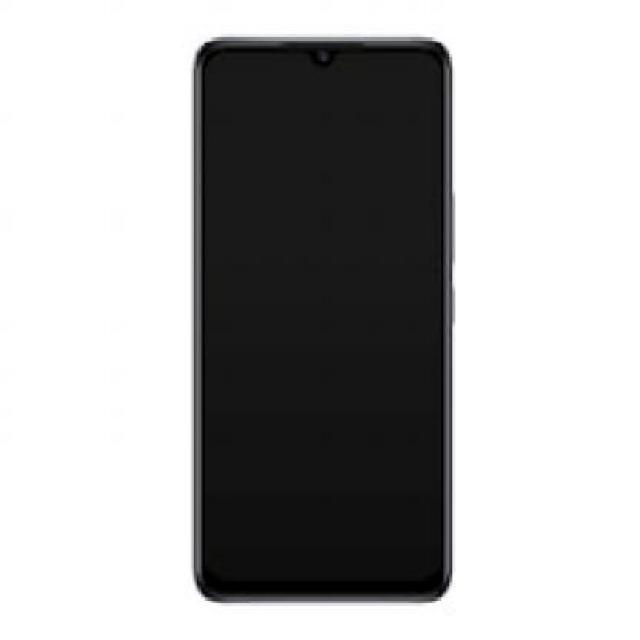phone: (191, 37, 455, 600)
